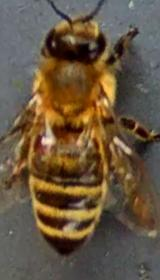varroa_mite: (25, 125, 62, 154)
